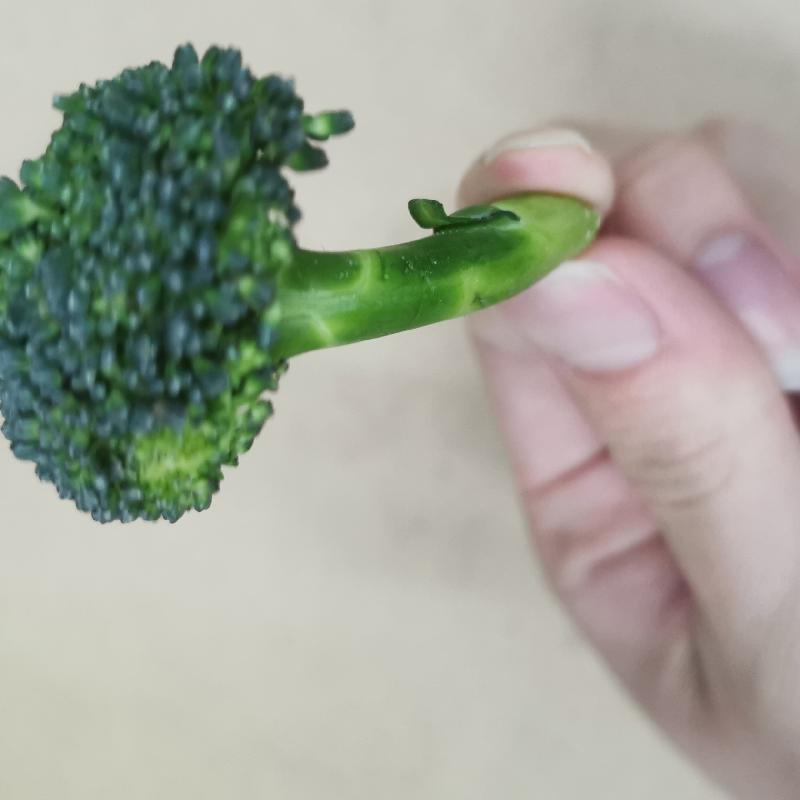broccoli: (4, 40, 607, 522)
